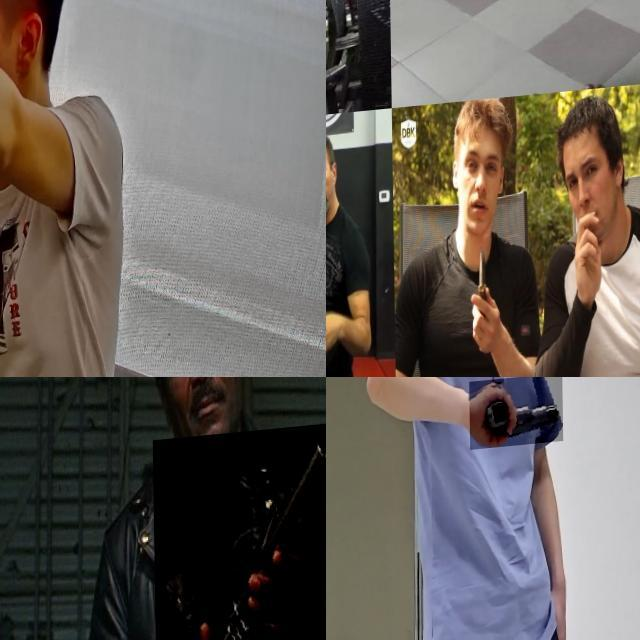-: (485, 0, 607, 60), (464, 246, 494, 338), (326, 301, 344, 377), (326, 43, 336, 63)
gun-knife-thesis - v11 Yolov5 augmented: (151, 428, 326, 640), (0, 0, 54, 318), (469, 381, 563, 456)
